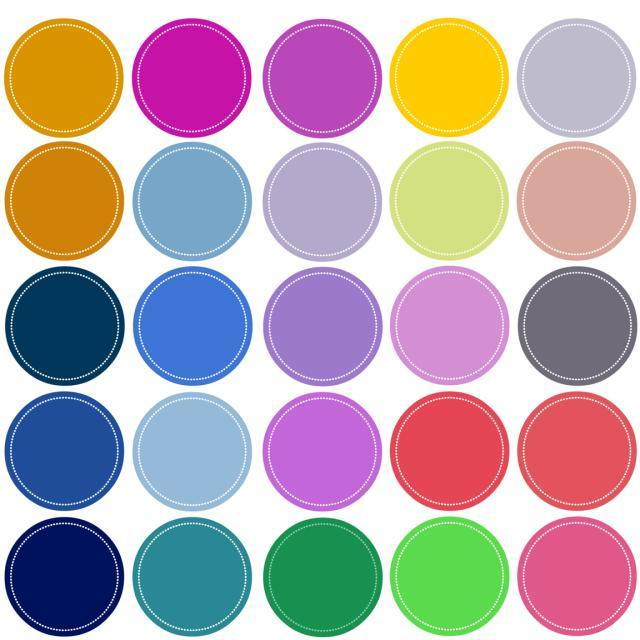Circle: (0, 513, 130, 640), (127, 386, 255, 514), (126, 264, 256, 390), (2, 12, 128, 140), (126, 139, 256, 263), (385, 14, 513, 139), (513, 389, 640, 513), (386, 389, 514, 512), (5, 264, 130, 387), (5, 389, 128, 513), (517, 262, 640, 386)
